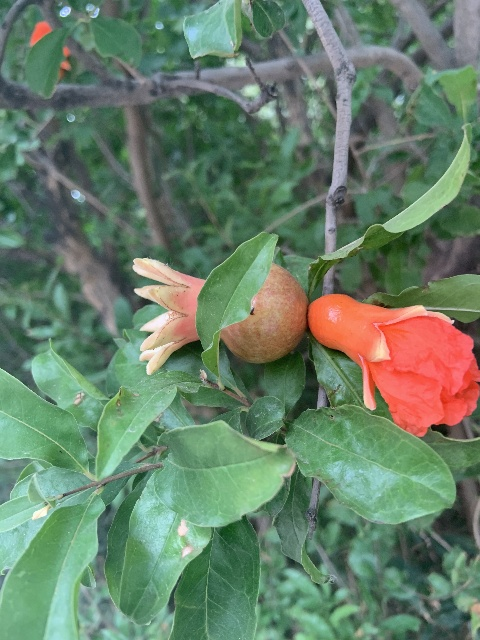early-fruit: (132, 256, 306, 371)
flower: (310, 293, 480, 437)
